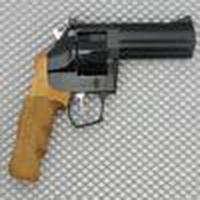gun: (9, 24, 197, 180)
